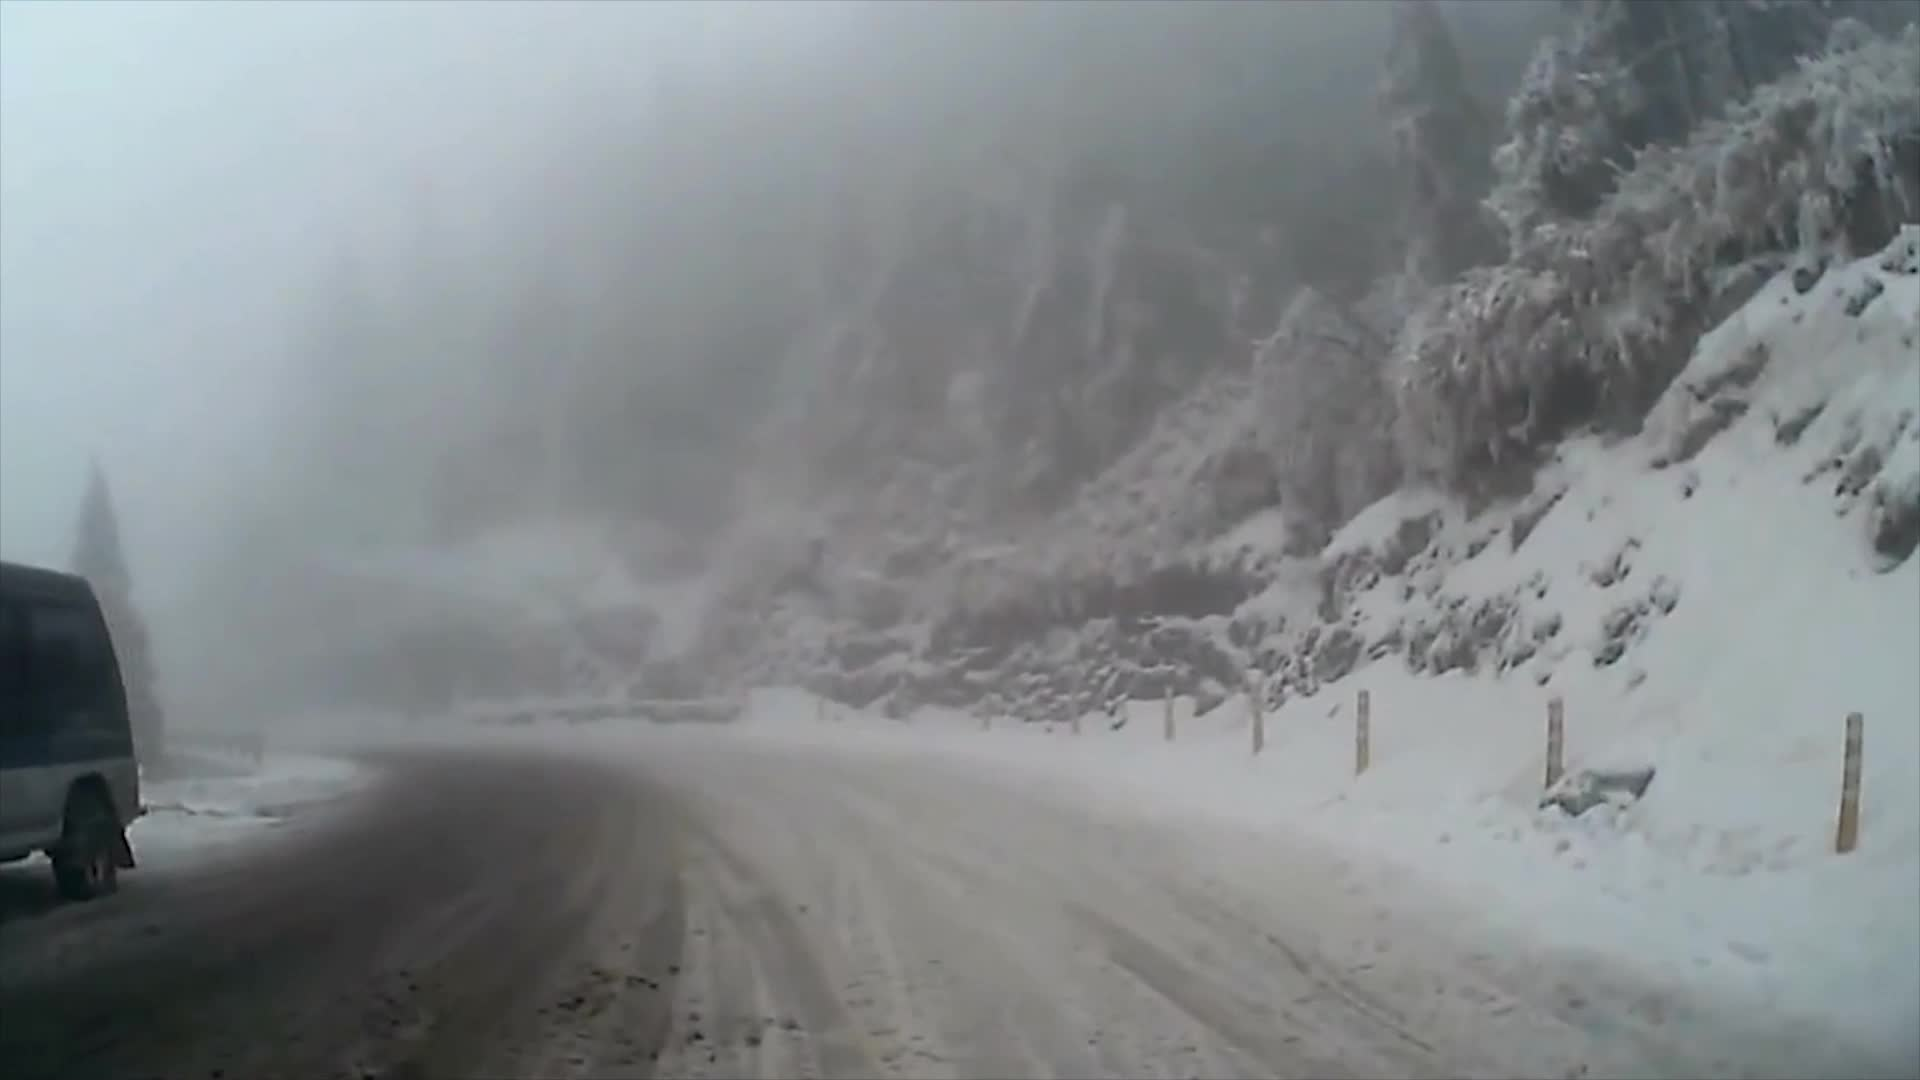vehicle: (0, 558, 152, 899)
